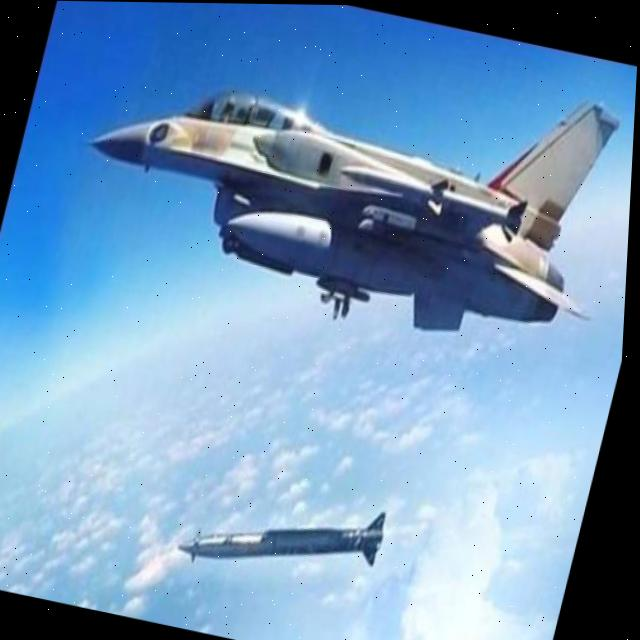missile: (210, 188, 582, 359), (178, 466, 416, 611), (326, 151, 546, 243)
